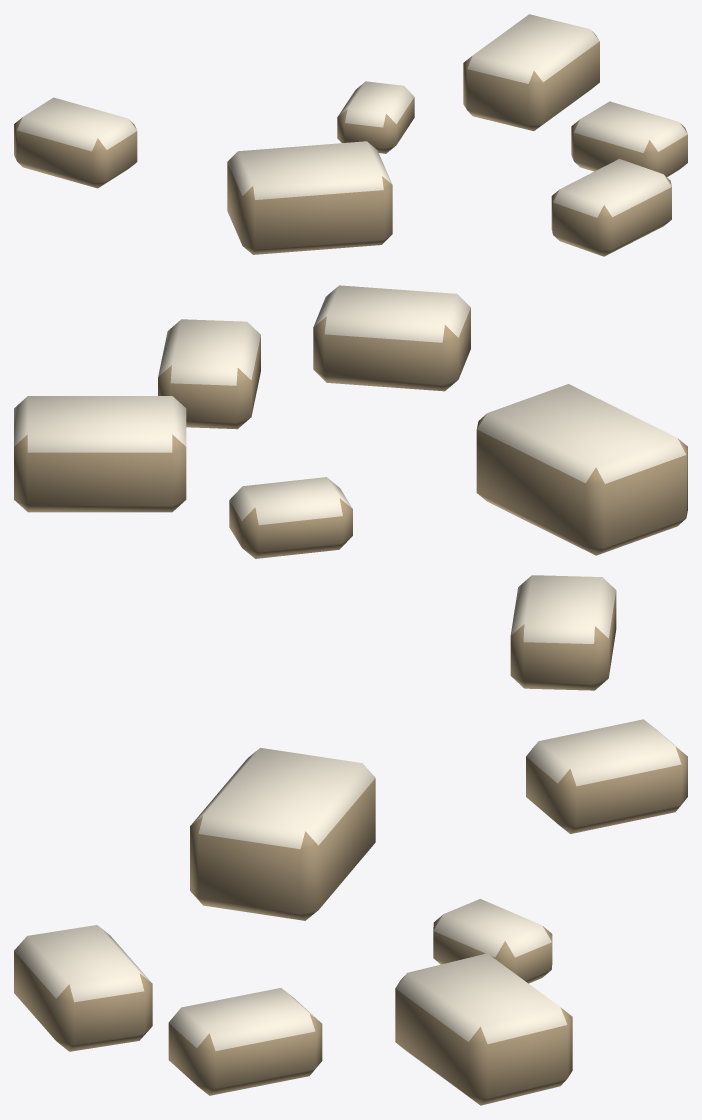
File: MarbleRubble.fbx
3 views of the same model, one above another, from view 1: azimuth 30°, elevation 25°; view 2: azimuth 150°, elevation 25°; view 3: azimuth 270°, elevation 25° (orthographic). The views are drawn at different scales.
Visible parts, largest first — view 1: MarbleRubble; view 2: MarbleRubble; view 3: MarbleRubble.
Part boxes in pixels (box(x1,y1,x2,y2)): MarbleRubble: box(14, 14, 687, 256); MarbleRubble: box(14, 285, 687, 690); MarbleRubble: box(14, 719, 687, 1105).
Bounding box in the file's own units: 1.12 × 0.1415 × 0.9608.
1 material, 1 textured.
